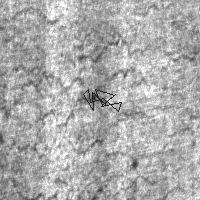crazing: (1, 4, 103, 177), (41, 15, 184, 94), (54, 91, 178, 169), (83, 89, 121, 111)
